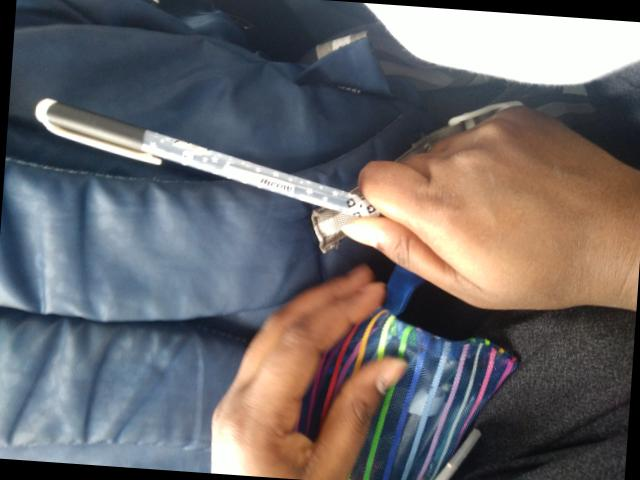PEN: (252, 6, 383, 409)
